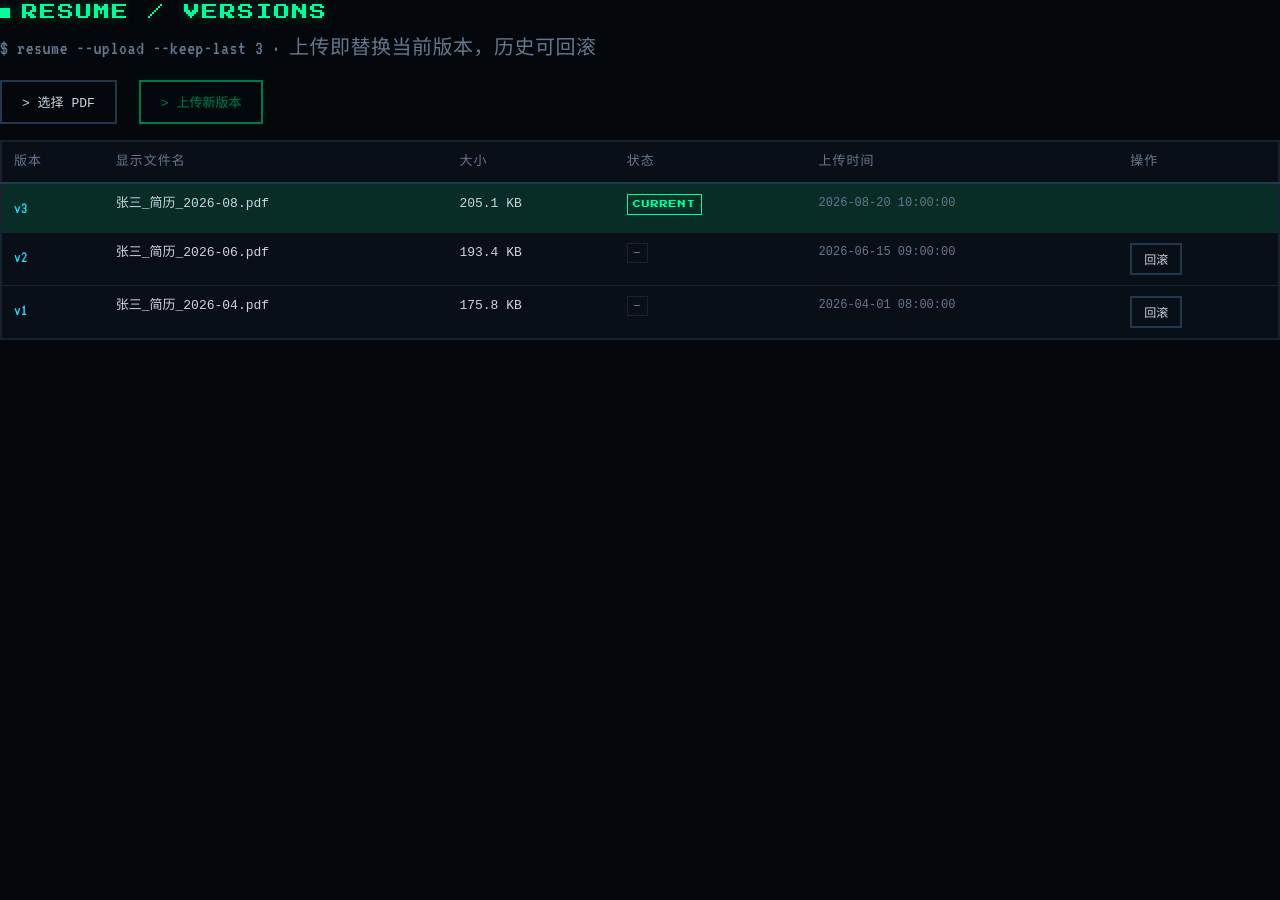
it: 后台简历管理页（Spec 07） › 回滚需确认弹窗：确认后调 restore 且 isCurrent 标记变化
Click the button with class "op-btn" in the row of "v2" at x=1156, y=259, box [1130,243,1182,275]
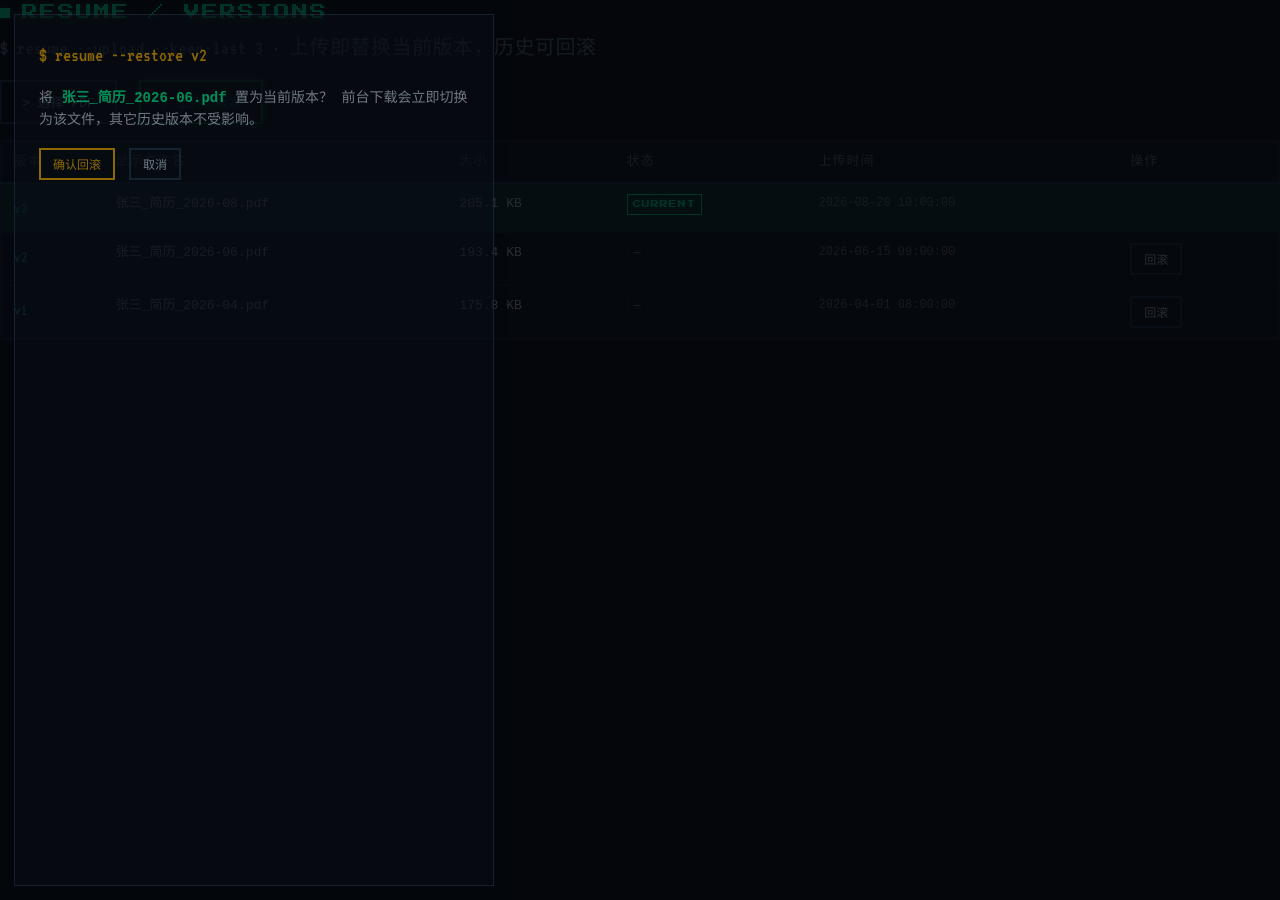
Result: the dialog with class "confirm-overlay" is shown
Result: the text with class "confirm-cmd" shows "v2" at [39,45,207,65]
Click the button with class "danger" at x=77, y=164, box [39,148,115,180]
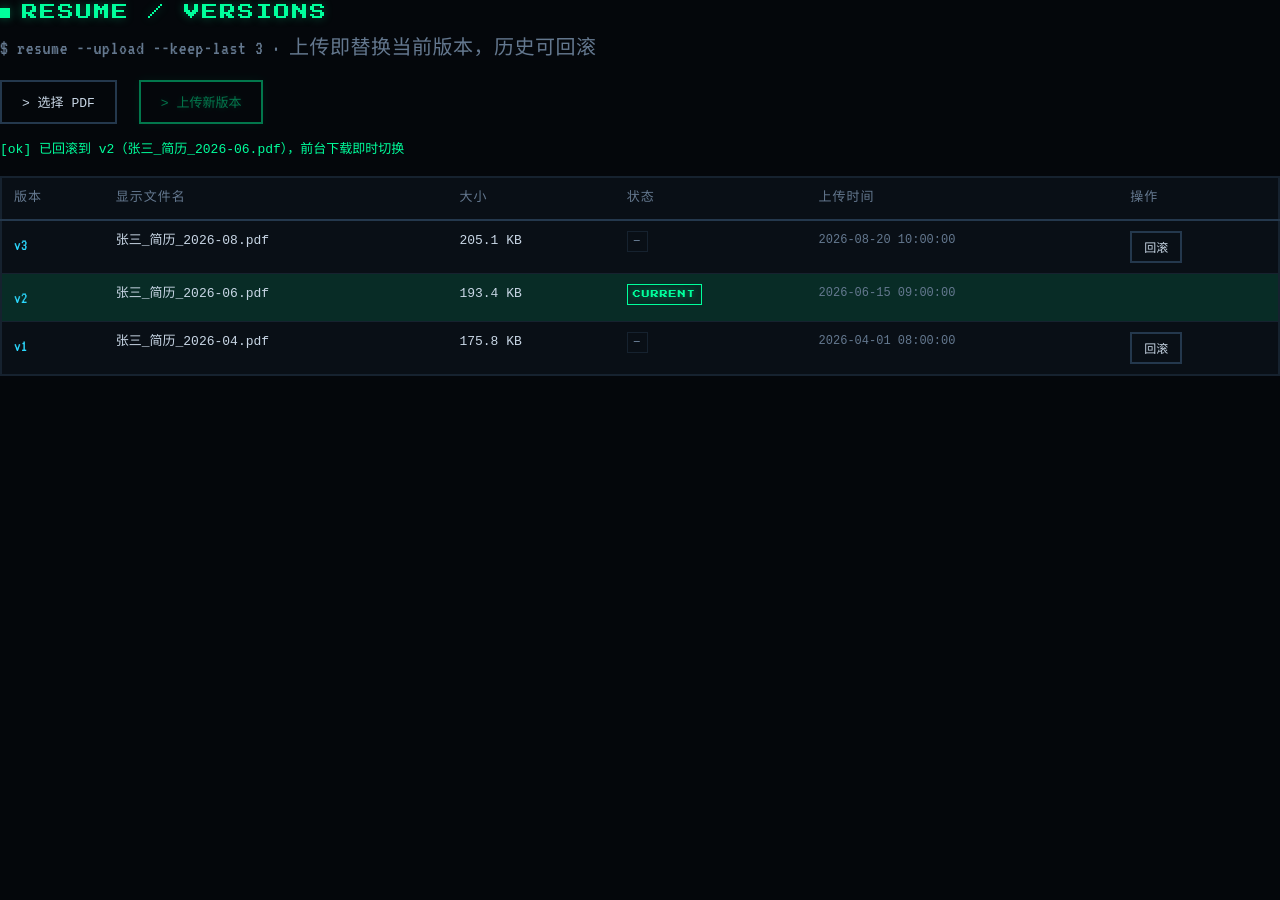
Result: the text "CURRENT" is shown at [627,284,702,305]
Result: the message with class "notice" shows "回滚" at [0,142,404,157]
